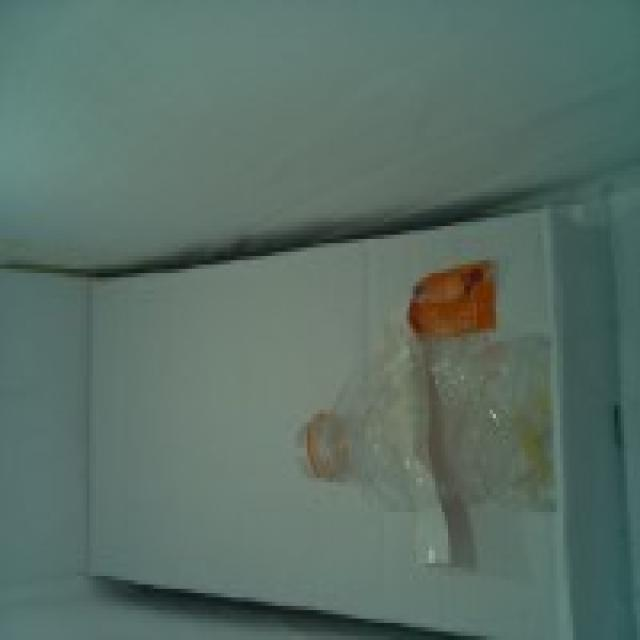Anorganik: (285, 329, 563, 516)
